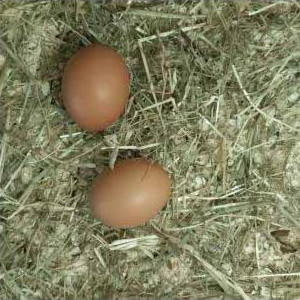egg: (61, 45, 131, 132), (87, 158, 171, 229)
